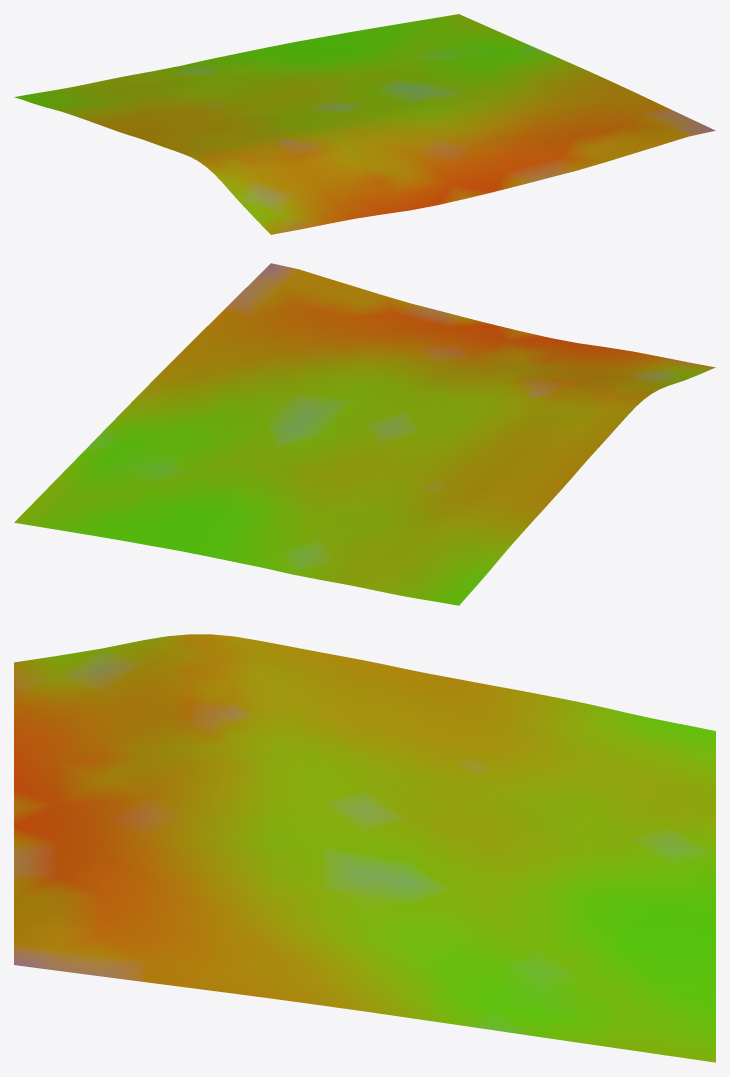
The model's file is SM_BM_BT_Terrain_7_0.glb.
3 views of the same model, one above another, from view 1: azimuth 30°, elevation 25°; view 2: azimuth 150°, elevation 25°; view 3: azimuth 270°, elevation 25° (orthographic). The views are drawn at different scales.
Visible parts, largest first — view 1: SM_BM_BT_Terrain_7_0; view 2: SM_BM_BT_Terrain_7_0; view 3: SM_BM_BT_Terrain_7_0.
Part boxes in pixels (x1,y1,x2,y2): SM_BM_BT_Terrain_7_0: (14,14,715,234); SM_BM_BT_Terrain_7_0: (14,263,715,605); SM_BM_BT_Terrain_7_0: (14,634,715,1062).
Size of the model in its own units: 256 by 52.96 by 256.
